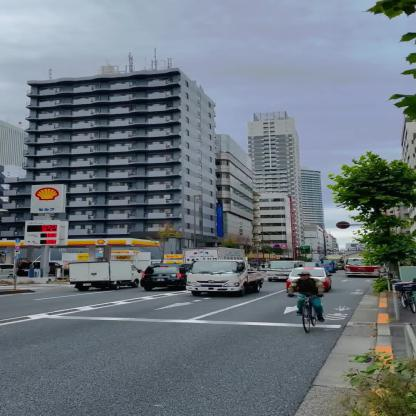bus: (346, 258, 380, 277)
car: (141, 264, 190, 292), (286, 266, 332, 292)
motorcycle: (288, 273, 324, 332)
truck: (187, 260, 266, 298), (68, 260, 141, 292), (265, 261, 302, 281)
